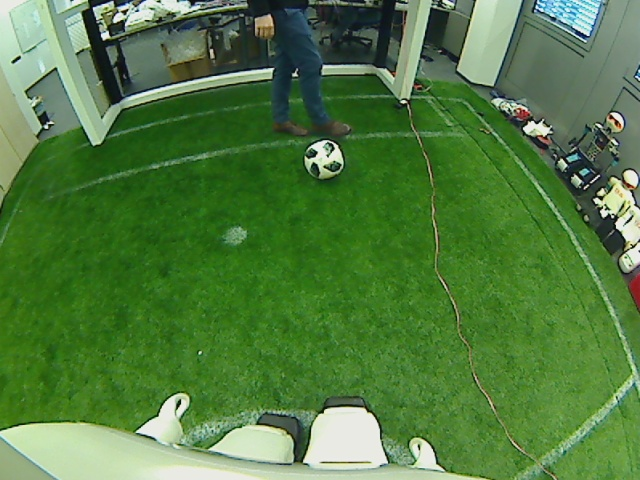ball: (301, 136, 346, 181)
